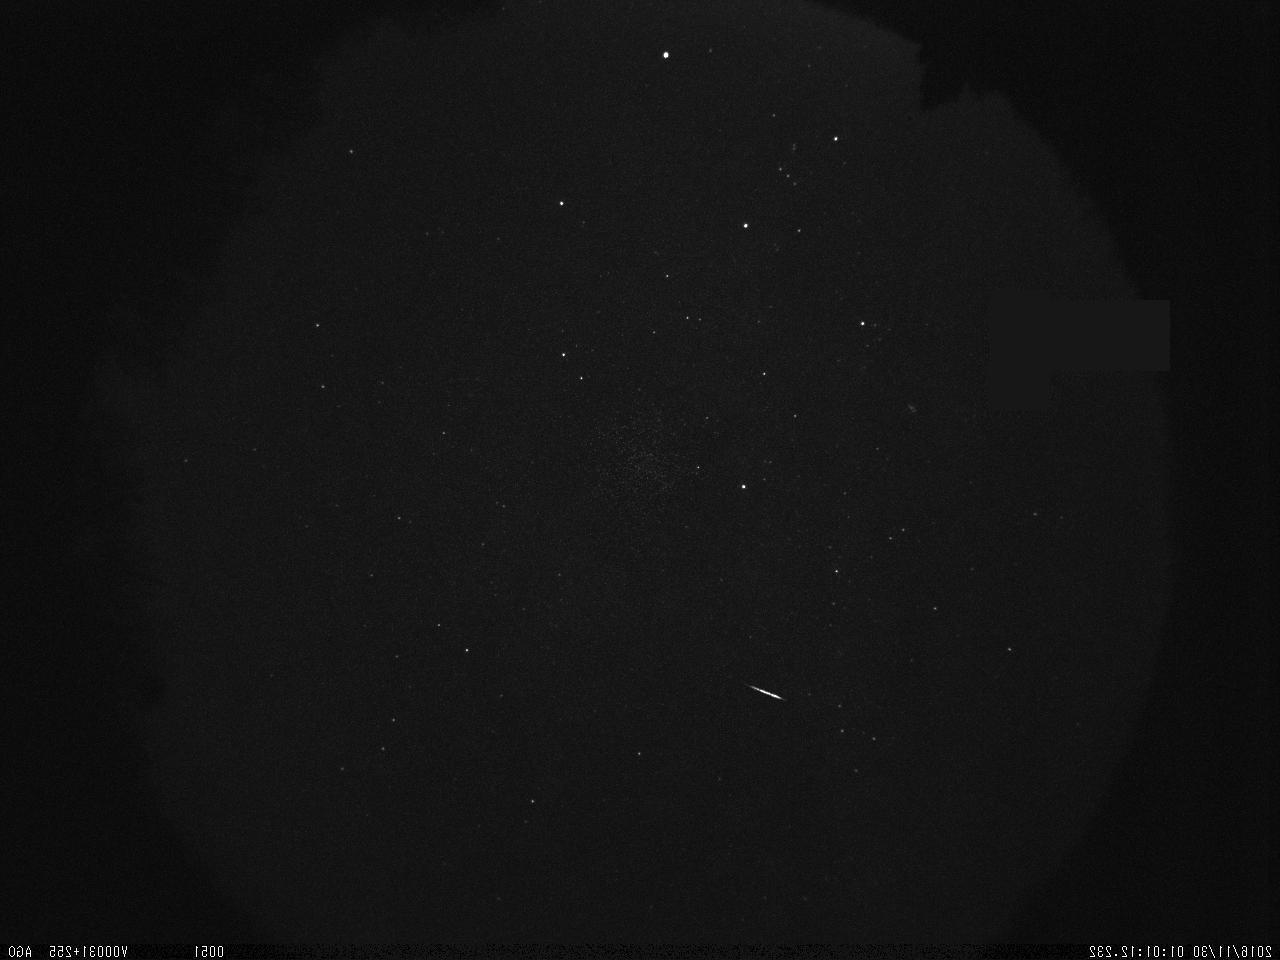meteor: (718, 679, 796, 710)
